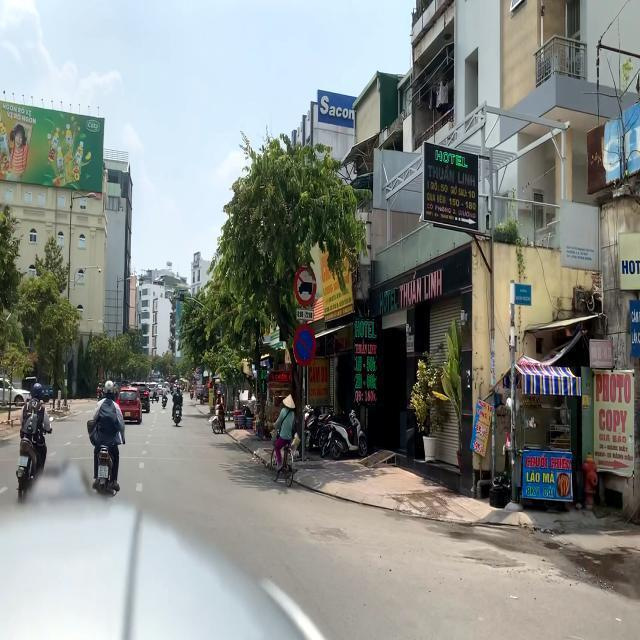131a-cam-do-xe: (292, 324, 316, 364)
